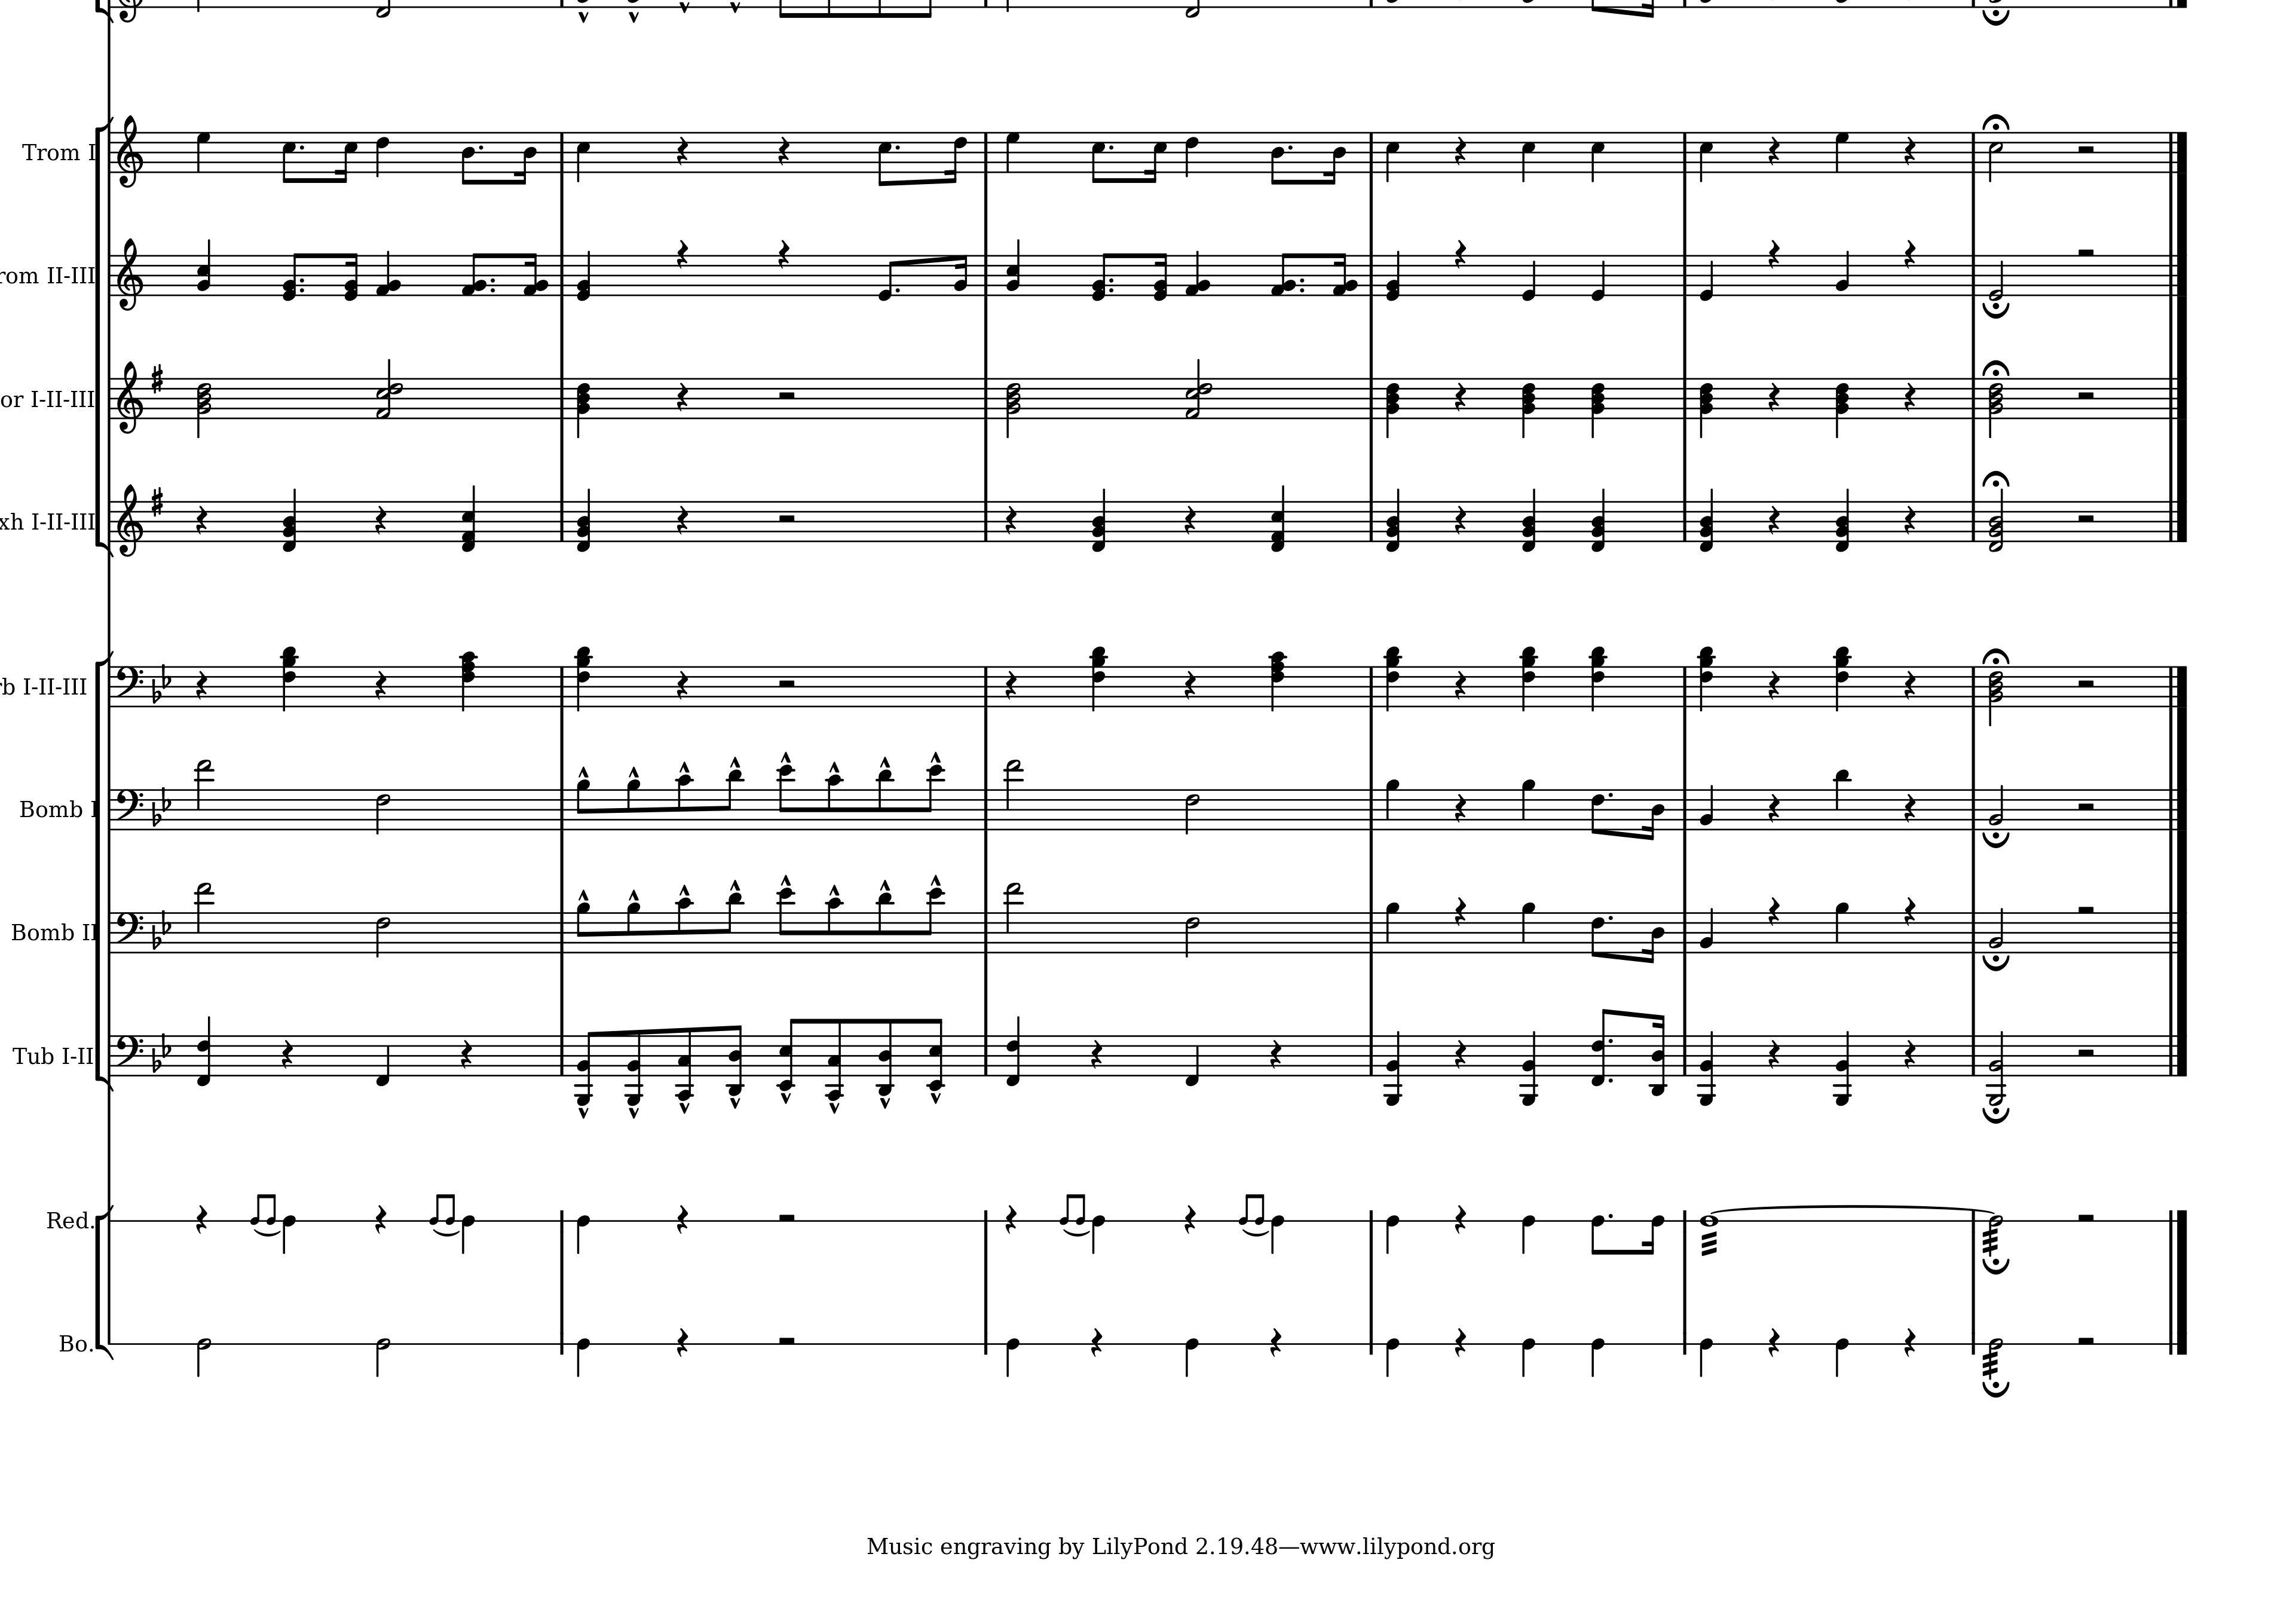16_-3_4: (1650, 1012, 1667, 1095)
16_0_2: (344, 251, 358, 302), (1154, 251, 1168, 302)
16_1_2: (523, 250, 548, 297), (1333, 251, 1358, 297)
16_2: (954, 253, 968, 297)
16_4: (1323, 130, 1346, 185), (515, 130, 536, 186), (1643, 909, 1664, 963), (1644, 787, 1664, 840), (1643, 1213, 1664, 1255)
16_5: (336, 130, 358, 185), (1144, 130, 1166, 185)
16_6: (943, 130, 966, 185)
2_-5_2: (1985, 1030, 2006, 1107)
2_0: (1987, 251, 2004, 299)
2_13: (1005, 758, 1022, 831), (195, 758, 213, 830), (195, 881, 213, 953), (1005, 881, 1022, 953)
2_2: (1987, 784, 2004, 830), (1987, 905, 2004, 951)
2_4: (195, 1336, 213, 1376), (374, 1336, 390, 1376)
2_5: (1987, 130, 2003, 183)
2_6: (1184, 787, 1200, 835), (1184, 910, 1200, 958), (376, 787, 390, 835), (376, 910, 390, 958)
2_th: (374, 359, 404, 422), (1987, 664, 2004, 728), (1003, 376, 1021, 438), (1989, 489, 2004, 554), (195, 378, 211, 438)
4_-1: (374, 1033, 390, 1086), (1184, 1033, 1200, 1086)
4_-1_4: (1005, 1014, 1021, 1088)
4_-1_6: (197, 1014, 213, 1088)
4_-5_2: (1518, 1030, 1541, 1107), (1695, 1032, 1718, 1106), (1832, 1030, 1853, 1107), (1384, 1030, 1402, 1107)
4_0: (1520, 253, 1537, 302), (1699, 253, 1715, 302), (1590, 253, 1606, 301)
4_0_2: (576, 250, 592, 302), (1386, 250, 1400, 302)
4_11: (1834, 766, 1852, 831)
4_1_2: (376, 250, 404, 299), (1186, 250, 1210, 299)
4_2: (1834, 248, 1852, 297), (1699, 782, 1715, 831), (1699, 905, 1715, 953)
4_2_5: (195, 239, 213, 297), (1007, 239, 1021, 297)
4_4: (1384, 1211, 1400, 1255), (1834, 1334, 1850, 1378), (574, 1336, 590, 1378), (1384, 1336, 1400, 1378), (576, 1211, 590, 1253), (1521, 1213, 1535, 1255), (1005, 1336, 1019, 1378), (1184, 1336, 1198, 1378), (1521, 1336, 1535, 1378), (1590, 1336, 1604, 1378), (1699, 1336, 1713, 1378), (281, 1213, 295, 1253), (460, 1213, 474, 1253), (1091, 1213, 1105, 1253), (1270, 1213, 1284, 1253)
4_5: (1697, 130, 1715, 183), (574, 130, 590, 183), (1384, 130, 1400, 183), (1520, 130, 1535, 183), (1590, 130, 1606, 183)
4_6: (374, 130, 390, 178), (1184, 130, 1198, 178)
4_7: (1005, 130, 1021, 174), (1834, 130, 1850, 174), (195, 130, 211, 172)
4_9: (1834, 900, 1852, 954), (1384, 777, 1400, 831), (1520, 777, 1535, 831), (1384, 900, 1400, 953), (1520, 900, 1535, 953)
4_th: (1520, 643, 1539, 712), (1832, 643, 1852, 712), (1695, 642, 1715, 708), (573, 643, 592, 710), (1383, 643, 1402, 708), (1520, 485, 1537, 554), (1384, 485, 1402, 554), (1590, 485, 1607, 554), (1834, 485, 1852, 554), (1588, 643, 1606, 712), (1697, 487, 1715, 554), (279, 643, 297, 710), (281, 487, 299, 552), (1089, 645, 1107, 710), (1383, 374, 1400, 438), (460, 483, 476, 554), (1270, 483, 1286, 552), (574, 376, 592, 438), (1697, 378, 1715, 439), (1987, 378, 2004, 439), (458, 649, 476, 710), (1268, 649, 1286, 710), (576, 487, 592, 554), (1091, 487, 1107, 554), (1834, 376, 1850, 438), (1588, 376, 1604, 438), (1520, 378, 1535, 438)
8_-1_6: (1592, 1007, 1609, 1086)
8_-2_5: (778, 1018, 801, 1091), (926, 1016, 947, 1091)
8_-3_4: (875, 1018, 896, 1097), (726, 1023, 747, 1097)
8_-4_3: (826, 1018, 845, 1102), (675, 1026, 696, 1102)
8_-5_2: (576, 1032, 599, 1106), (624, 1028, 645, 1106)
8_0: (877, 253, 896, 301)
8_0_2: (281, 251, 302, 301), (1091, 251, 1110, 301)
8_10: (675, 773, 692, 831), (826, 773, 843, 831), (675, 896, 692, 954), (826, 896, 843, 954)
8_11: (720, 891, 743, 954), (720, 768, 741, 831), (877, 768, 894, 831), (877, 891, 892, 954)
8_12: (921, 886, 943, 954), (922, 765, 943, 831), (776, 765, 794, 831), (776, 886, 794, 953)
8_1_2: (1270, 251, 1296, 295), (462, 253, 487, 297)
8_4: (460, 130, 474, 186), (1270, 130, 1284, 186), (1590, 1213, 1604, 1255), (249, 1192, 264, 1227), (1059, 1192, 1072, 1229), (265, 1192, 278, 1223), (1075, 1192, 1086, 1229)
8_5: (877, 130, 892, 188), (281, 130, 297, 185), (1091, 130, 1105, 185)
8_6: (1590, 787, 1604, 835), (1590, 910, 1604, 958)
8_9: (625, 779, 641, 831), (625, 902, 641, 953), (576, 779, 590, 831), (576, 902, 590, 953)
B_F: (151, 661, 172, 703), (151, 1030, 170, 1072), (151, 786, 170, 826), (151, 907, 170, 947)
Bracke: (95, 649, 116, 1095), (91, 112, 112, 555)
Fclef: (114, 1033, 144, 1077), (114, 664, 144, 707), (114, 910, 144, 953), (116, 787, 144, 831)
Fermata_above: (1980, 1376, 2013, 1397), (1978, 1104, 2013, 1123), (1980, 111, 2010, 132), (1980, 645, 2010, 666), (1982, 1255, 2013, 1274), (1980, 359, 2010, 378), (1980, 468, 2010, 487), (1980, 7, 2011, 25), (1982, 301, 2013, 318), (1980, 830, 2011, 847), (1982, 953, 2013, 970)
Final_barline: (2164, 376, 2187, 418), (2166, 130, 2187, 174), (2166, 663, 2187, 707), (2164, 253, 2185, 295), (2166, 499, 2187, 541), (2166, 787, 2187, 830), (2164, 1033, 2185, 1076), (2166, 910, 2185, 951), (2166, 1209, 2185, 1223), (2166, 1341, 2185, 1355)
Gclef: (114, 112, 144, 188), (116, 359, 144, 434), (116, 237, 144, 311), (116, 482, 144, 555)
Marcato_above: (877, 1091, 894, 1107), (776, 1090, 796, 1102), (928, 749, 942, 765), (778, 749, 792, 765), (727, 1093, 743, 1107), (727, 754, 741, 768), (676, 759, 690, 773), (727, 877, 741, 891), (826, 882, 840, 896), (576, 888, 590, 902), (676, 0, 692, 12), (625, 9, 641, 21), (878, 754, 891, 768), (827, 759, 841, 772), (627, 763, 639, 777), (576, 765, 590, 777), (929, 872, 942, 886), (778, 874, 792, 886), (676, 882, 690, 895), (627, 888, 639, 902), (878, 877, 891, 889)
Rests2: (775, 1209, 799, 1223), (775, 1332, 798, 1346), (2075, 244, 2096, 258), (2075, 388, 2096, 402), (2075, 902, 2096, 916), (2075, 1046, 2096, 1060), (2075, 1332, 2096, 1346), (2075, 144, 2097, 156), (775, 511, 798, 524), (2075, 1211, 2097, 1223), (2075, 511, 2096, 524), (776, 677, 798, 689), (2075, 677, 2096, 689), (2075, 800, 2096, 812), (776, 390, 798, 401)
Rests4: (1765, 791, 1781, 824), (1453, 893, 1469, 926), (1453, 1200, 1467, 1236), (675, 134, 689, 167), (776, 134, 791, 167), (1453, 134, 1467, 167), (1767, 134, 1781, 167), (1903, 134, 1917, 167), (675, 237, 689, 271), (1453, 380, 1467, 413), (675, 503, 689, 536), (1003, 503, 1017, 536), (1182, 503, 1196, 536), (1453, 503, 1467, 536), (1903, 503, 1917, 536), (675, 670, 689, 703), (1003, 668, 1017, 701), (1182, 668, 1196, 701), (1453, 791, 1467, 824), (1903, 791, 1917, 824), (279, 1037, 293, 1070), (458, 1037, 473, 1070), (1089, 1037, 1103, 1070), (1268, 1037, 1282, 1070), (1453, 1037, 1467, 1070), (675, 1202, 689, 1236), (675, 1323, 689, 1357), (1453, 1323, 1467, 1357), (776, 237, 791, 269), (1453, 237, 1467, 269), (1767, 237, 1781, 269), (1903, 237, 1917, 269), (675, 381, 689, 413), (1903, 380, 1917, 411), (1453, 670, 1467, 701), (1767, 670, 1781, 701), (1903, 670, 1917, 701), (1767, 895, 1781, 926), (1903, 895, 1917, 926), (1903, 1037, 1917, 1069), (1089, 1325, 1103, 1357), (1268, 1325, 1282, 1357), (1903, 1325, 1917, 1357), (1767, 380, 1780, 413), (195, 503, 207, 536), (374, 503, 386, 536), (1767, 503, 1780, 536), (374, 670, 386, 703), (1767, 1037, 1780, 1070), (374, 1202, 386, 1236), (1767, 1323, 1780, 1357), (195, 670, 207, 701), (195, 1202, 207, 1234), (1005, 1202, 1017, 1234), (1184, 1202, 1196, 1234)
Sharp: (149, 483, 163, 517), (151, 360, 163, 394)
Single_barline: (1363, 789, 1379, 830), (555, 132, 569, 172), (1678, 132, 1692, 172), (1966, 255, 1980, 295), (1678, 255, 1692, 295), (978, 378, 993, 418), (555, 378, 569, 418), (1678, 378, 1692, 418), (555, 666, 569, 707), (1678, 666, 1692, 707), (980, 130, 993, 172), (1365, 132, 1377, 172), (1967, 132, 1980, 172), (980, 255, 993, 295), (555, 255, 567, 295), (1365, 255, 1377, 295), (1967, 378, 1980, 418), (1365, 378, 1377, 418), (1365, 501, 1377, 541), (1967, 666, 1980, 707), (1365, 666, 1377, 707), (555, 789, 567, 830), (980, 789, 993, 830), (1678, 789, 1690, 830), (1967, 789, 1980, 830), (555, 910, 567, 951), (980, 910, 993, 951), (1365, 910, 1377, 951), (1678, 910, 1690, 951), (1967, 910, 1980, 951), (978, 501, 991, 540), (1967, 501, 1980, 540), (555, 501, 567, 540), (978, 666, 991, 705), (555, 1035, 567, 1074), (1967, 1035, 1980, 1074), (105, 130, 116, 172), (980, 1033, 991, 1076), (105, 255, 116, 295), (1679, 501, 1690, 541), (104, 664, 114, 705), (1679, 1035, 1690, 1076), (1365, 1035, 1375, 1074), (105, 1033, 114, 1076), (105, 378, 114, 418), (105, 501, 114, 541), (105, 789, 114, 830), (105, 910, 114, 951)
Slur: (430, 1223, 460, 1236), (1240, 1225, 1270, 1236), (253, 1225, 281, 1236)
dot: (1606, 912, 1614, 923), (1606, 1211, 1616, 1220), (297, 142, 306, 151), (476, 142, 485, 151), (892, 142, 901, 151), (1107, 142, 1116, 151), (1286, 142, 1295, 151), (297, 276, 306, 285), (488, 276, 497, 285), (488, 285, 497, 294), (892, 285, 901, 294), (1606, 789, 1614, 798), (1606, 1035, 1614, 1044), (1606, 1074, 1614, 1083), (1107, 276, 1114, 285), (1298, 276, 1305, 285), (1107, 286, 1116, 294), (297, 286, 306, 294), (1298, 286, 1305, 294)
